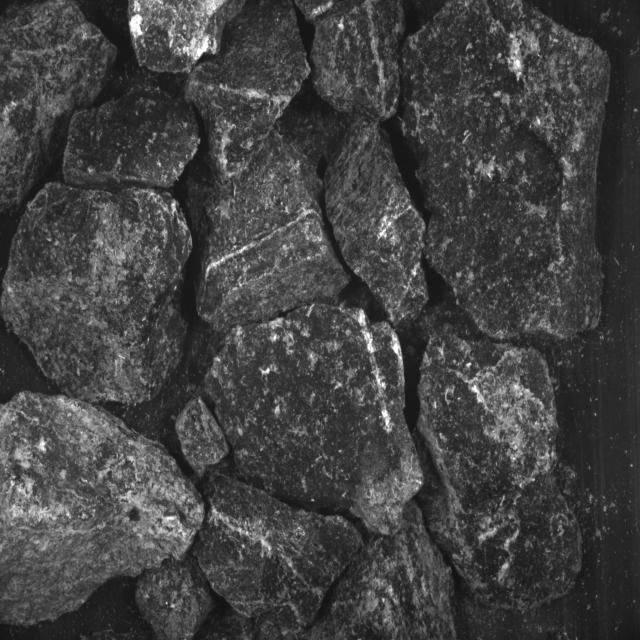Stones: (404, 1, 611, 340), (206, 305, 424, 536), (1, 393, 205, 626), (419, 333, 582, 610), (2, 185, 192, 404), (189, 131, 350, 332), (196, 132, 350, 332), (196, 476, 362, 627), (1, 1, 117, 213), (186, 1, 311, 181), (326, 118, 429, 327), (310, 501, 457, 640), (64, 91, 200, 191), (312, 1, 406, 121), (130, 1, 246, 74), (136, 558, 215, 640), (176, 398, 230, 477)
